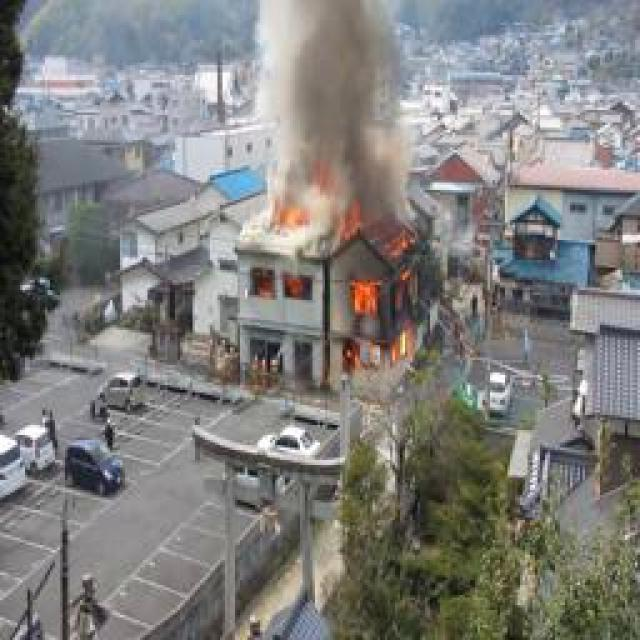Fire: (338, 221, 432, 385), (252, 267, 319, 306)
